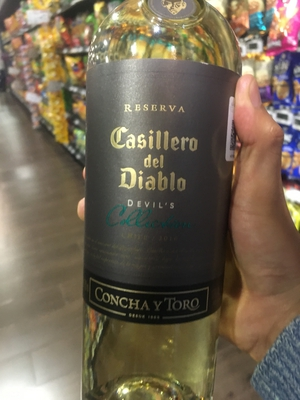casillero del diablo devils collection verde: (72, 4, 258, 400)
